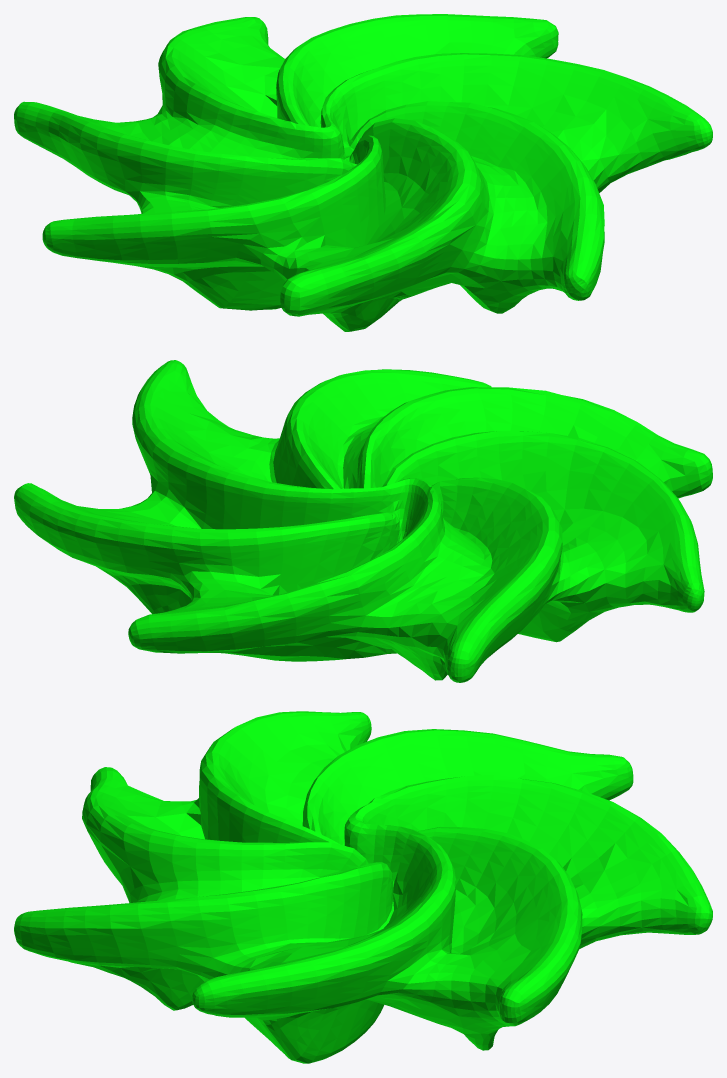
File: 1bloom.glb
3 renders of one model, top to bottom at view 1: azimuth 30°, elevation 25°; view 2: azimuth 150°, elevation 25°; view 3: azimuth 270°, elevation 25°, orthographic. The views are drawn at different scales.
Parts seen in each view (by area): view 1: tripo_node_5f59a64a-fb83-46a8-a33c-25a811dbd371; view 2: tripo_node_5f59a64a-fb83-46a8-a33c-25a811dbd371; view 3: tripo_node_5f59a64a-fb83-46a8-a33c-25a811dbd371.
Part boxes in pixels (x1,y1,x2,y2): tripo_node_5f59a64a-fb83-46a8-a33c-25a811dbd371: (14, 14, 712, 331); tripo_node_5f59a64a-fb83-46a8-a33c-25a811dbd371: (14, 360, 712, 682); tripo_node_5f59a64a-fb83-46a8-a33c-25a811dbd371: (14, 711, 712, 1063).
Size of the model in its own units: 0.9976 by 0.2641 by 0.9875.
